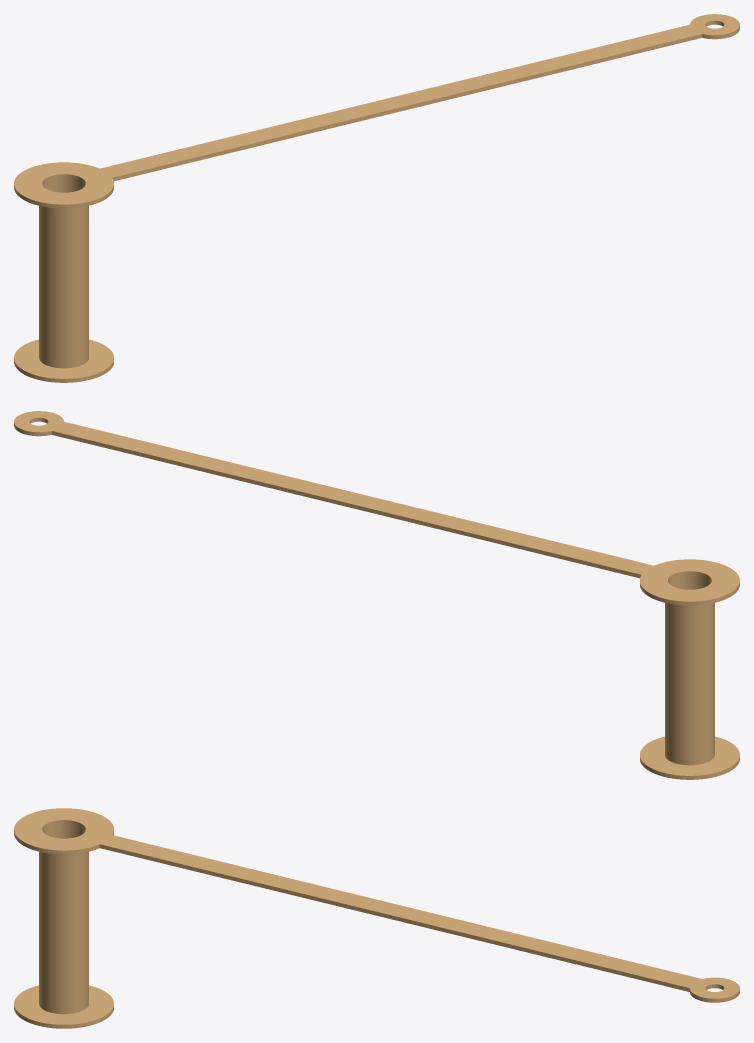
Rendered from board.glb.
3 renders of one model, top to bottom at view 1: azimuth 30°, elevation 25°; view 2: azimuth 150°, elevation 25°; view 3: azimuth 330°, elevation 25°, orthographic.
Visible parts, largest first — view 1: Unified_Net_2_Island_2, Bare_Via_Tube_0, Unified_Net_1_Island_3, Unified_Net_1_Island_5, Unified_Net_1_Island_4; view 2: Unified_Net_2_Island_2, Bare_Via_Tube_0, Unified_Net_1_Island_3, Unified_Net_1_Island_5, Unified_Net_1_Island_4; view 3: Unified_Net_2_Island_2, Bare_Via_Tube_0, Unified_Net_1_Island_3, Unified_Net_1_Island_5, Unified_Net_1_Island_4.
Boxes of the visible parts, left/top/right/bottom form: Unified_Net_2_Island_2: left=77, top=17, right=731, bottom=183; Bare_Via_Tube_0: left=39, top=176, right=88, bottom=368; Unified_Net_1_Island_3: left=14, top=162, right=113, bottom=208; Unified_Net_1_Island_5: left=14, top=339, right=113, bottom=382; Unified_Net_1_Island_4: left=690, top=14, right=739, bottom=39; Unified_Net_2_Island_2: left=22, top=414, right=676, bottom=580; Bare_Via_Tube_0: left=665, top=572, right=714, bottom=765; Unified_Net_1_Island_3: left=640, top=559, right=739, bottom=605; Unified_Net_1_Island_5: left=640, top=736, right=739, bottom=779; Unified_Net_1_Island_4: left=14, top=411, right=63, bottom=436; Unified_Net_2_Island_2: left=77, top=829, right=731, bottom=994; Bare_Via_Tube_0: left=39, top=821, right=88, bottom=1014; Unified_Net_1_Island_3: left=14, top=808, right=113, bottom=854; Unified_Net_1_Island_5: left=14, top=985, right=113, bottom=1028; Unified_Net_1_Island_4: left=690, top=977, right=739, bottom=1002.
Size of the model in its own units: 0.0066 by 0.00157 by 0.0008.
